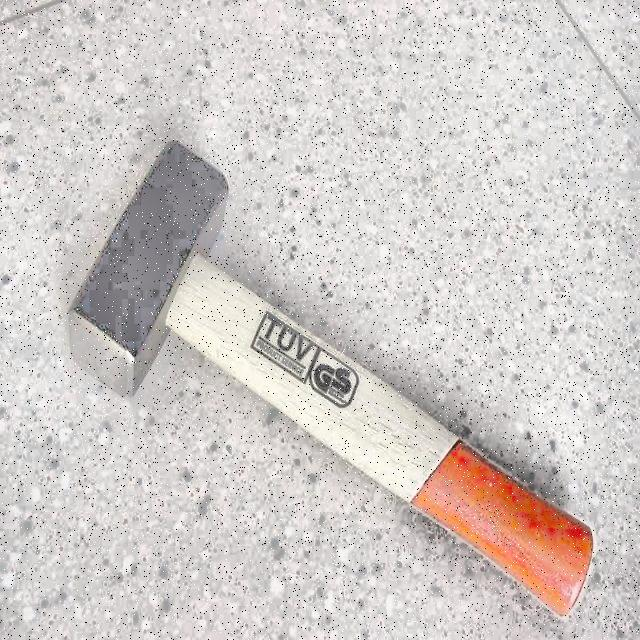hammer: (65, 140, 597, 616)
